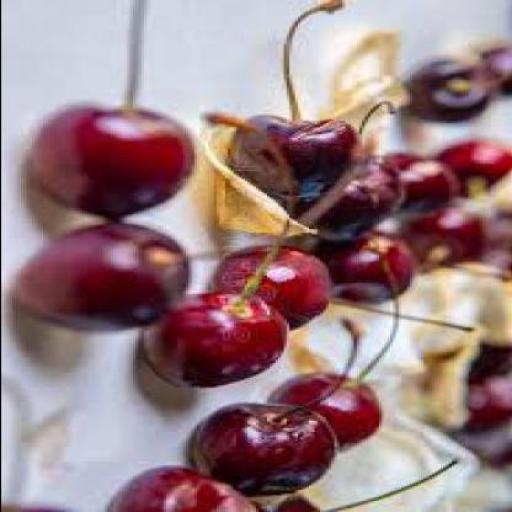biodegradable: (31, 104, 198, 223), (18, 222, 204, 328), (187, 402, 345, 498), (146, 287, 293, 385), (210, 120, 322, 232), (230, 116, 364, 203), (218, 244, 342, 326), (302, 155, 406, 236), (104, 465, 258, 511), (330, 34, 408, 122), (328, 230, 417, 304), (426, 330, 484, 428), (406, 60, 495, 121), (413, 205, 490, 270), (386, 153, 462, 214), (445, 140, 511, 198), (462, 348, 510, 426), (459, 421, 511, 466), (289, 328, 333, 370), (486, 41, 511, 97), (263, 492, 339, 510), (2, 504, 82, 510)
